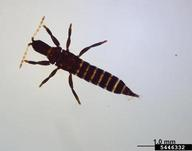Thrips: (21, 17, 143, 111)
